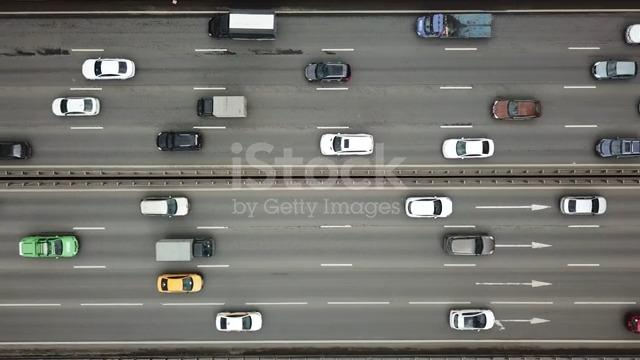Cars: (19, 234, 80, 259), (82, 57, 136, 81), (320, 133, 375, 156), (442, 137, 495, 160), (492, 99, 542, 121), (449, 308, 495, 331), (305, 61, 352, 83), (416, 14, 457, 39), (591, 60, 638, 81), (157, 273, 204, 294), (560, 195, 607, 216), (157, 131, 204, 152), (52, 97, 101, 117), (595, 137, 640, 158)
